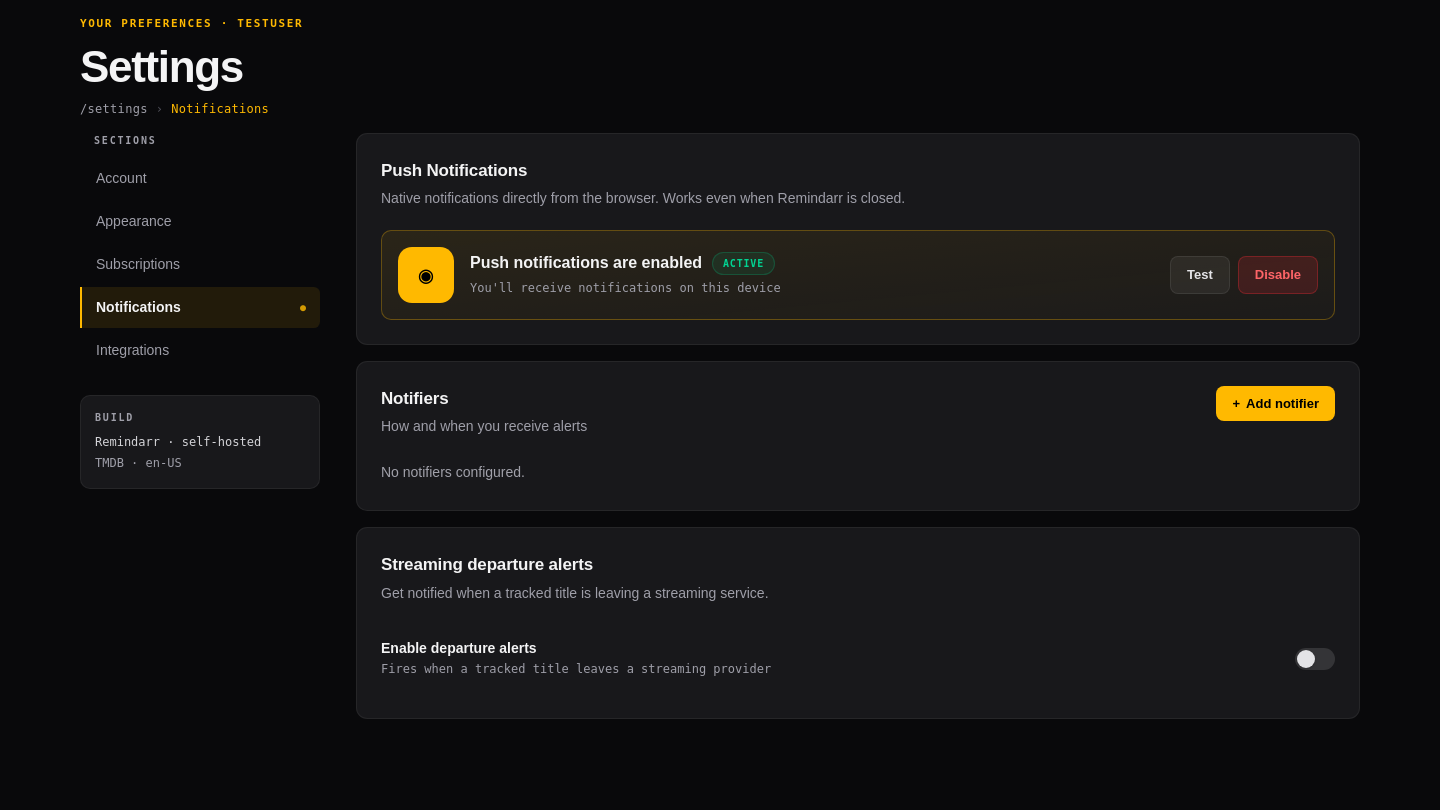
Test: PushNotificationsSection › shows normal error for non-expired test failures
Click the button "Test": (1200, 275) [1170, 256, 1230, 294]
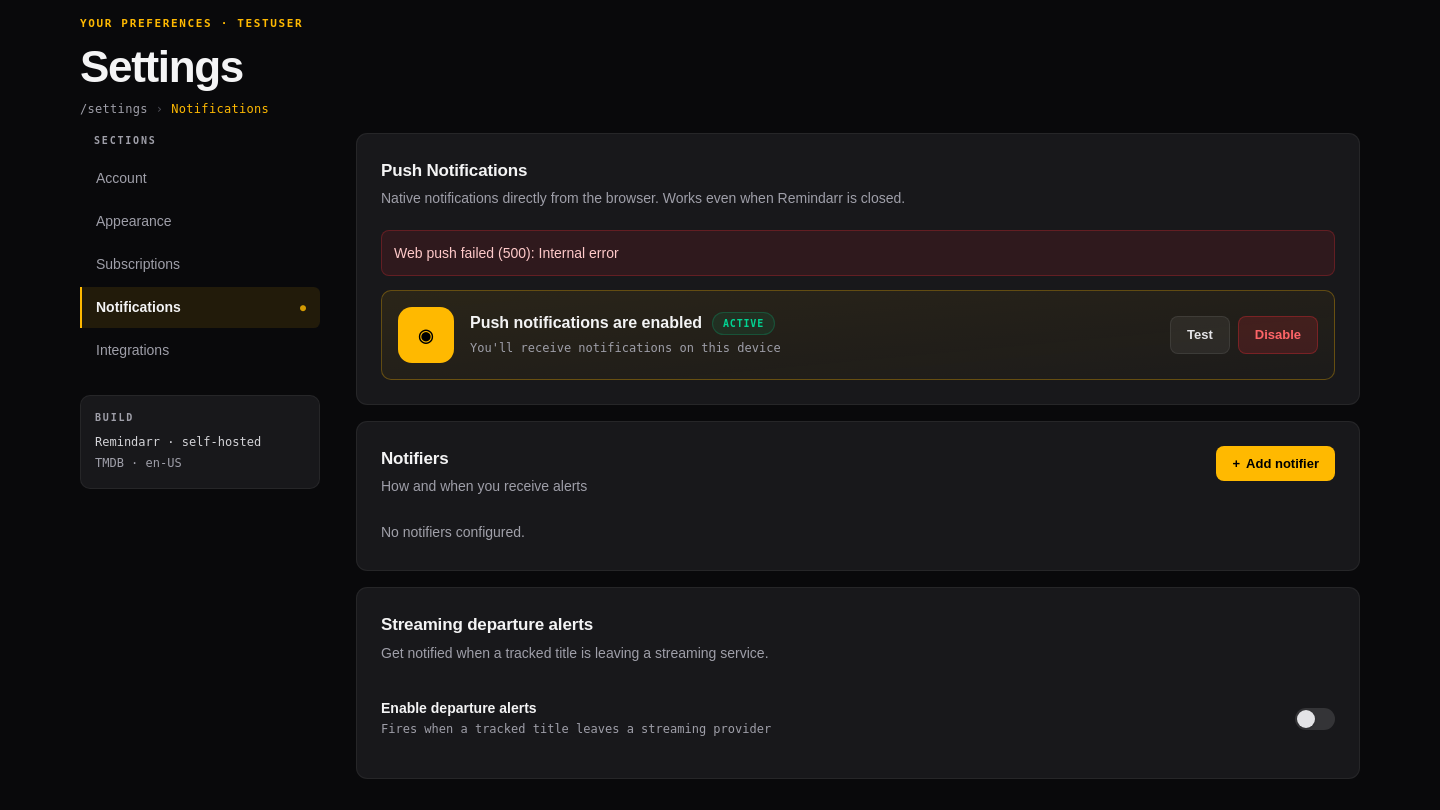
Expected: the text "Web push failed (500): Internal error" is shown, [381, 230, 1335, 276]
